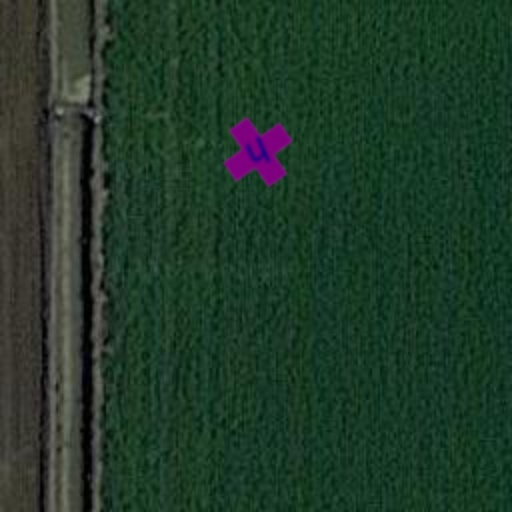cross: (208, 102, 308, 202)
